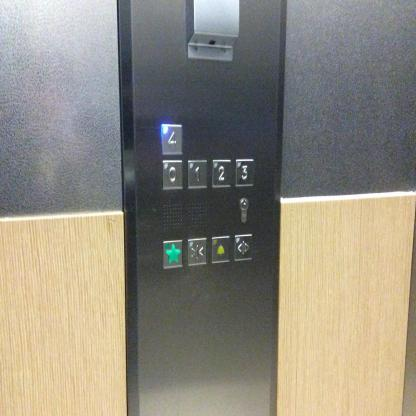0: (161, 158, 184, 191)
1: (186, 158, 208, 189)
2: (210, 156, 232, 189)
3: (234, 157, 255, 188)
4: (160, 122, 183, 155)
alarm: (211, 235, 231, 264)
close: (186, 237, 208, 267)
keyhole: (238, 197, 250, 211)
open: (233, 233, 254, 262)
s: (162, 238, 184, 270)
